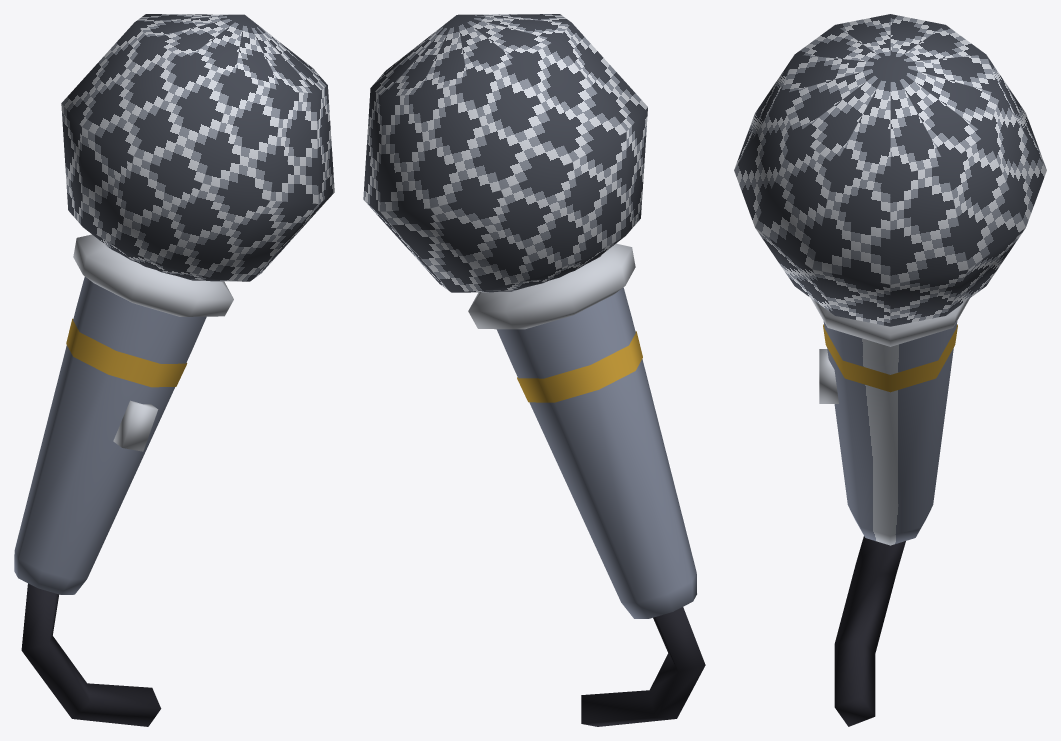
The model's file is personal-microphone.glb.
The picture shows the model from 3 angles, left to right: view 1: azimuth 30°, elevation 25°; view 2: azimuth 150°, elevation 25°; view 3: azimuth 270°, elevation 25°; orthographic projection. The views are drawn at different scales.
Visible parts, largest first — view 1: personal.microphone; view 2: personal.microphone; view 3: personal.microphone.
Part boxes in pixels (x1,y1,x2,y2): personal.microphone: (14, 14, 334, 726); personal.microphone: (363, 14, 705, 726); personal.microphone: (734, 14, 1046, 726).
Bounding box in the file's own units: 0.9101 × 1.94 × 0.7589.
Materials: 5 (5 with a texture image).
